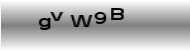9: (94, 12, 107, 25)
B: (110, 6, 126, 21)
W: (70, 14, 93, 29)
g: (38, 18, 53, 30)
v: (50, 10, 64, 22)
